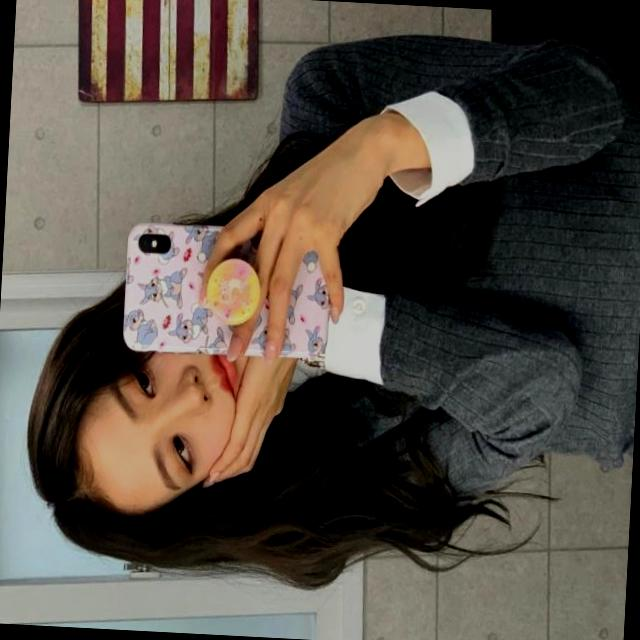lens_back: (138, 232, 154, 254), (156, 234, 173, 253)
phone: (117, 216, 340, 364)
